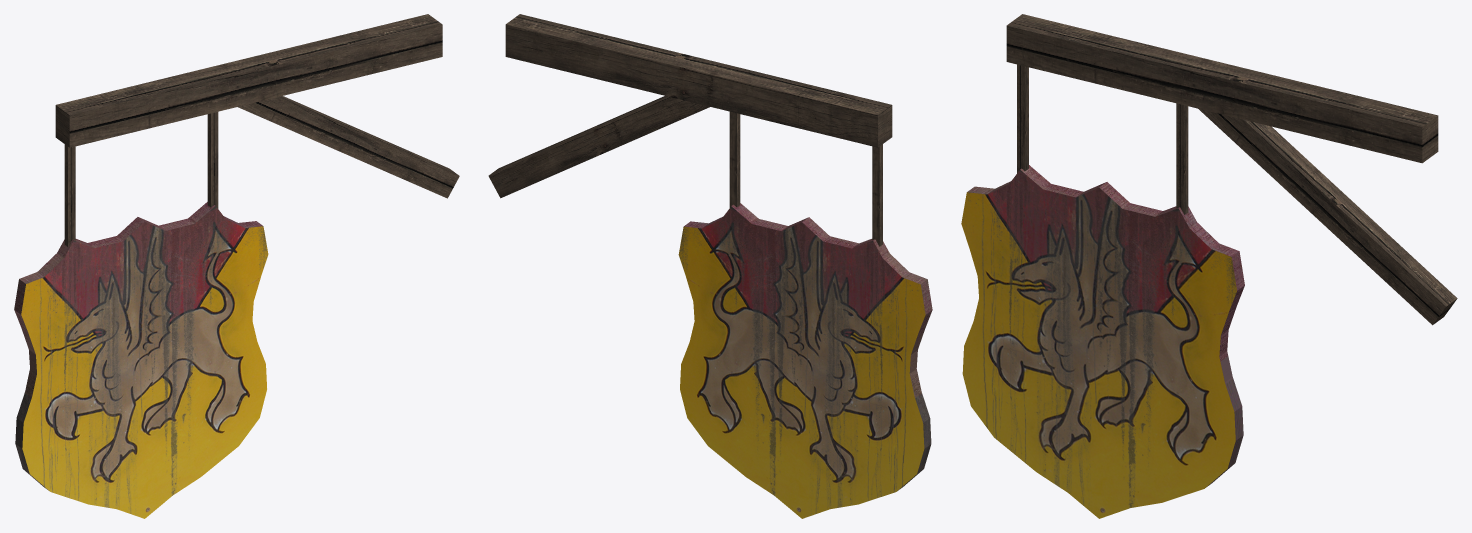
Rendered from f1_shield04.dae.
3 renders of one model, left to right at view 1: azimuth 30°, elevation 25°; view 2: azimuth 150°, elevation 25°; view 3: azimuth 330°, elevation 25°, orthographic. The views are drawn at different scales.
Visible parts, largest first — view 1: f1_shield04_Layer1; view 2: f1_shield04_Layer1; view 3: f1_shield04_Layer1.
Part boxes in pixels (box(x1,y1,x2,y2)): f1_shield04_Layer1: box(14, 14, 459, 518); f1_shield04_Layer1: box(488, 14, 932, 518); f1_shield04_Layer1: box(961, 14, 1457, 518).
Bounding box in the file's own units: 1.19 × 1.11 × 0.0671.
